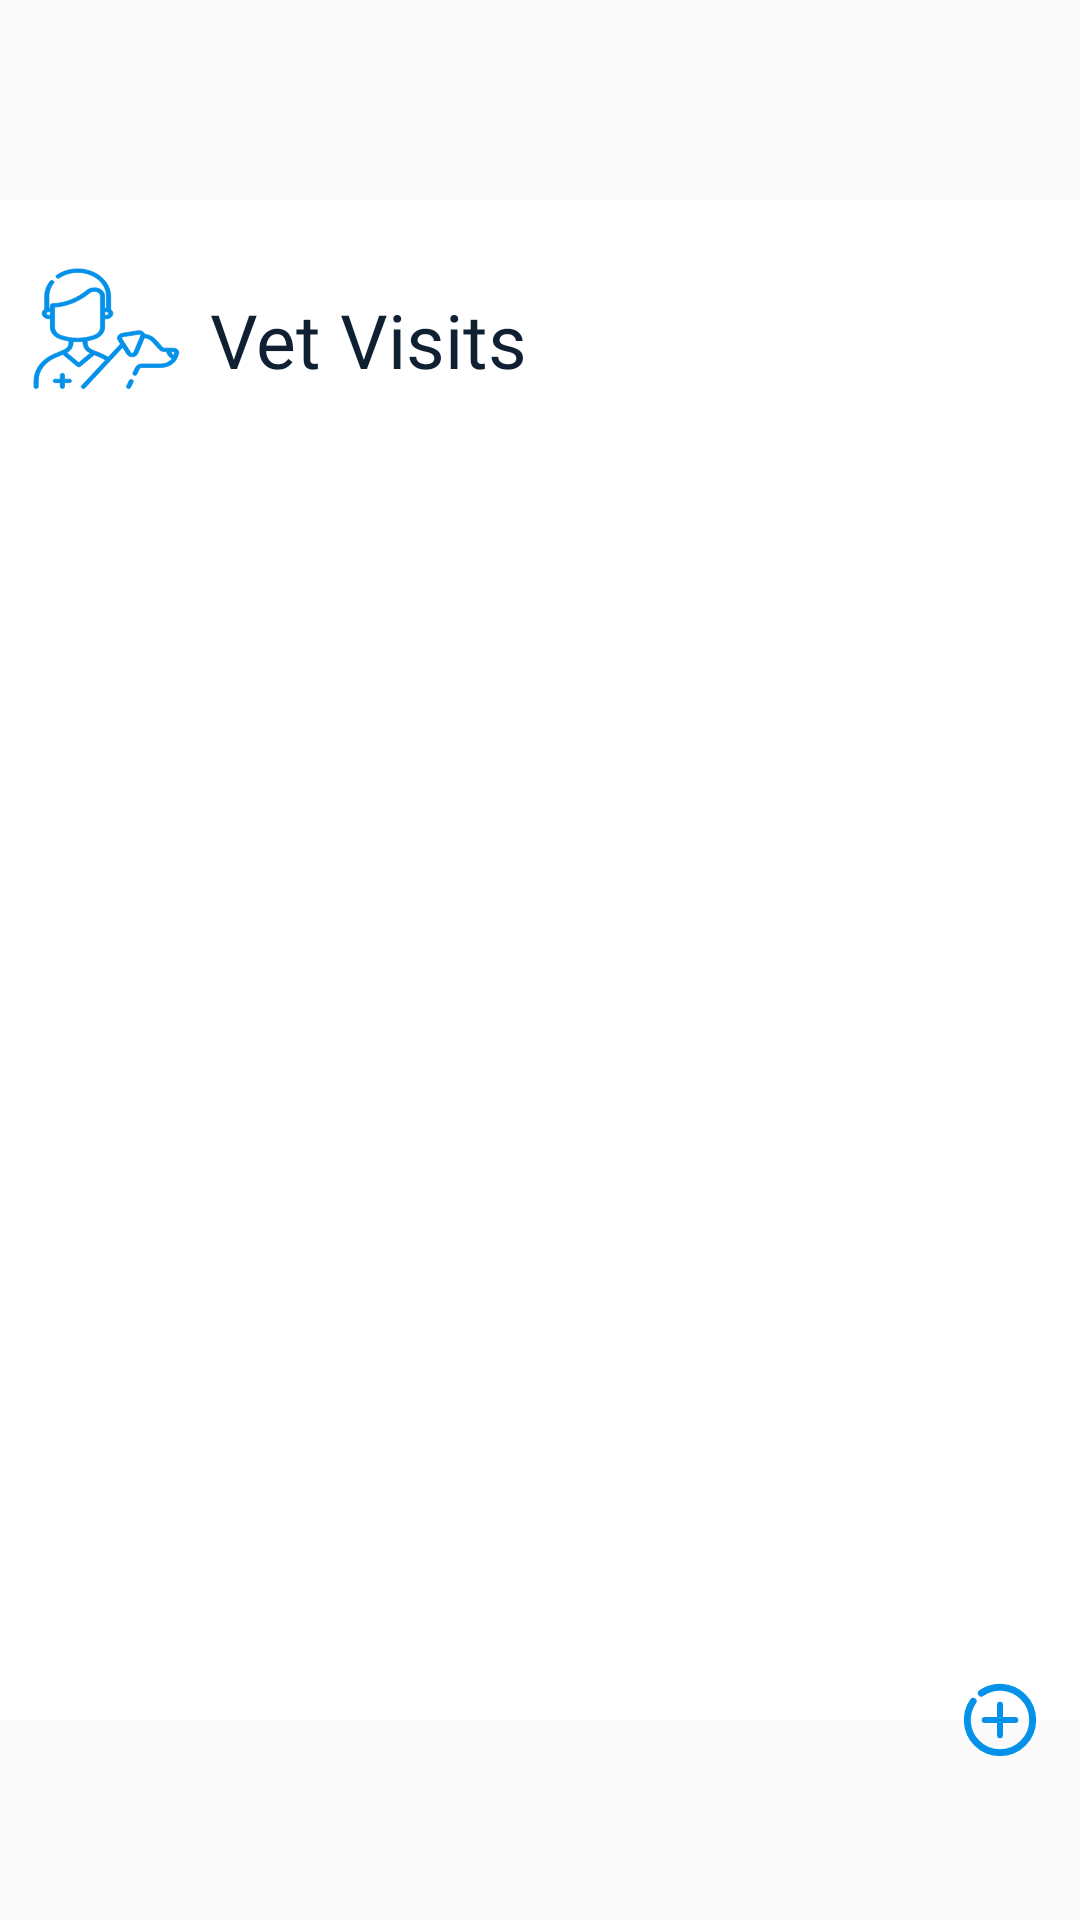

Screen size 1080px x 1920px. Icon name, then its box in pixels as (x1, y1, x2, y2):
add round broken line: (964, 1683, 1036, 1756)
